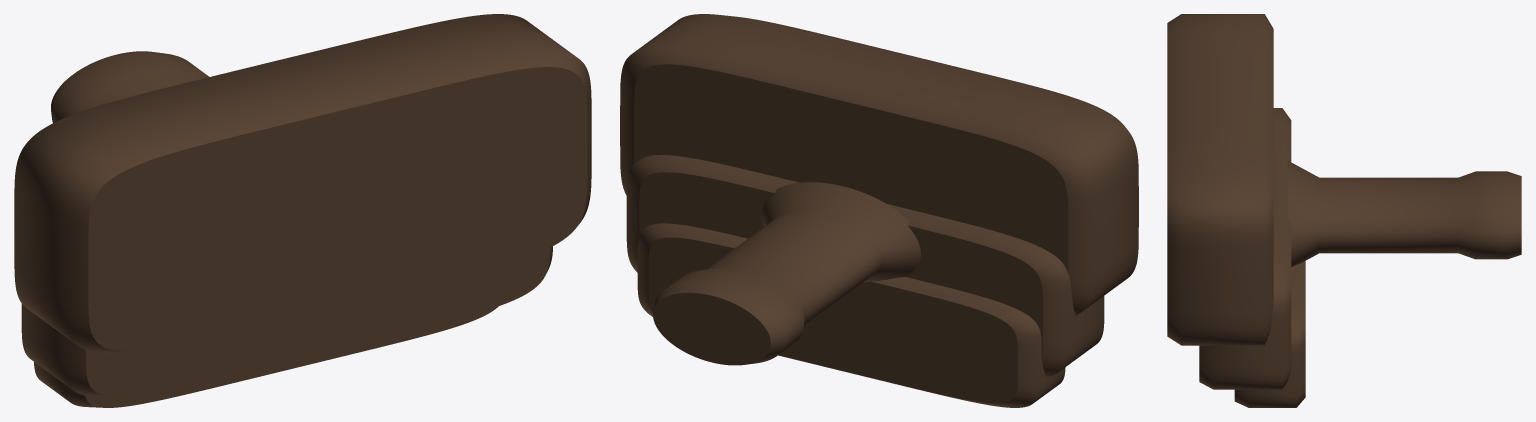
Rendered from eurofit-k-323orb-v3.glb.
3 renders of one model, left to right at view 1: azimuth 30°, elevation 25°; view 2: azimuth 150°, elevation 25°; view 3: azimuth 270°, elevation 25°, orthographic. The views are drawn at different scales.
Parts seen in each view (by area): view 1: K323 Rear arched cap, K323 Middle nested step, K323 cylindrical pedestal, K323 Front nested step; view 2: K323 Rear arched cap, K323 Front nested step, K323 cylindrical pedestal, K323 Middle nested step; view 3: K323 Rear arched cap, K323 cylindrical pedestal, K323 Middle nested step, K323 Front nested step.
Boxes of the visible parts, left/top/right/bottom form: K323 Rear arched cap: left=14, top=14, right=591, bottom=353; K323 Middle nested step: left=21, top=246, right=552, bottom=396; K323 cylindrical pedestal: left=51, top=51, right=208, bottom=122; K323 Front nested step: left=34, top=306, right=498, bottom=407; K323 Rear arched cap: left=620, top=14, right=1138, bottom=315; K323 Front nested step: left=637, top=223, right=1065, bottom=407; K323 cylindrical pedestal: left=653, top=182, right=920, bottom=365; K323 Middle nested step: left=626, top=155, right=1104, bottom=376; K323 Rear arched cap: left=1167, top=14, right=1273, bottom=345; K323 cylindrical pedestal: left=1287, top=161, right=1521, bottom=266; K323 Middle nested step: left=1199, top=108, right=1291, bottom=389; K323 Front nested step: left=1234, top=261, right=1305, bottom=407.
Bounding box in the file's own units: 0.037 × 0.02 × 0.027.
